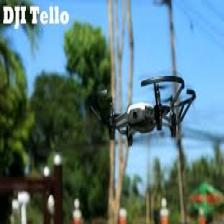drone: (91, 75, 193, 142)
